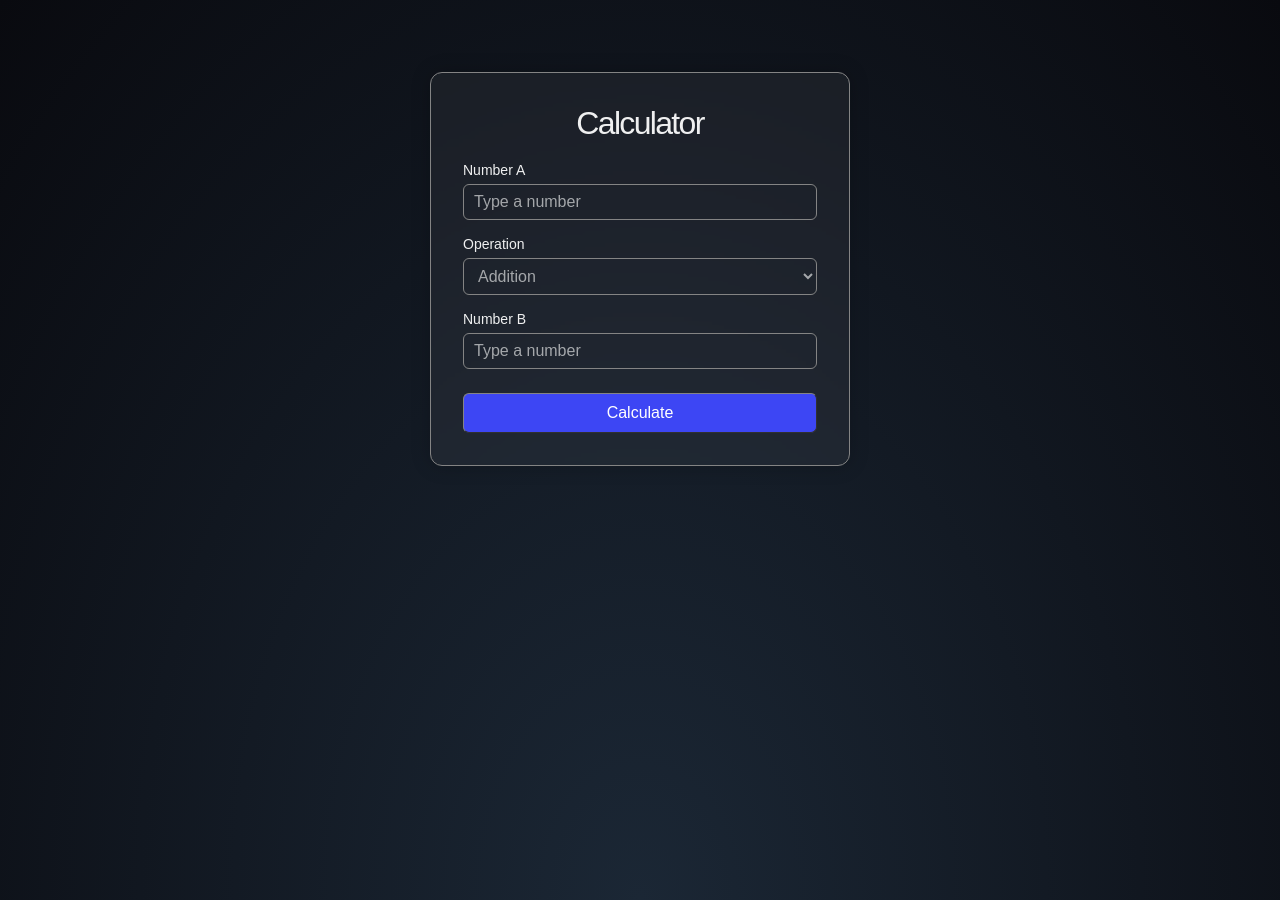
Scenario: Calculator input validation › rejects submission when both fields are empty
The width and height of the screenshot is (1280, 900).
Click the button "Calculate" at [640, 413], box [463,393,817,433]
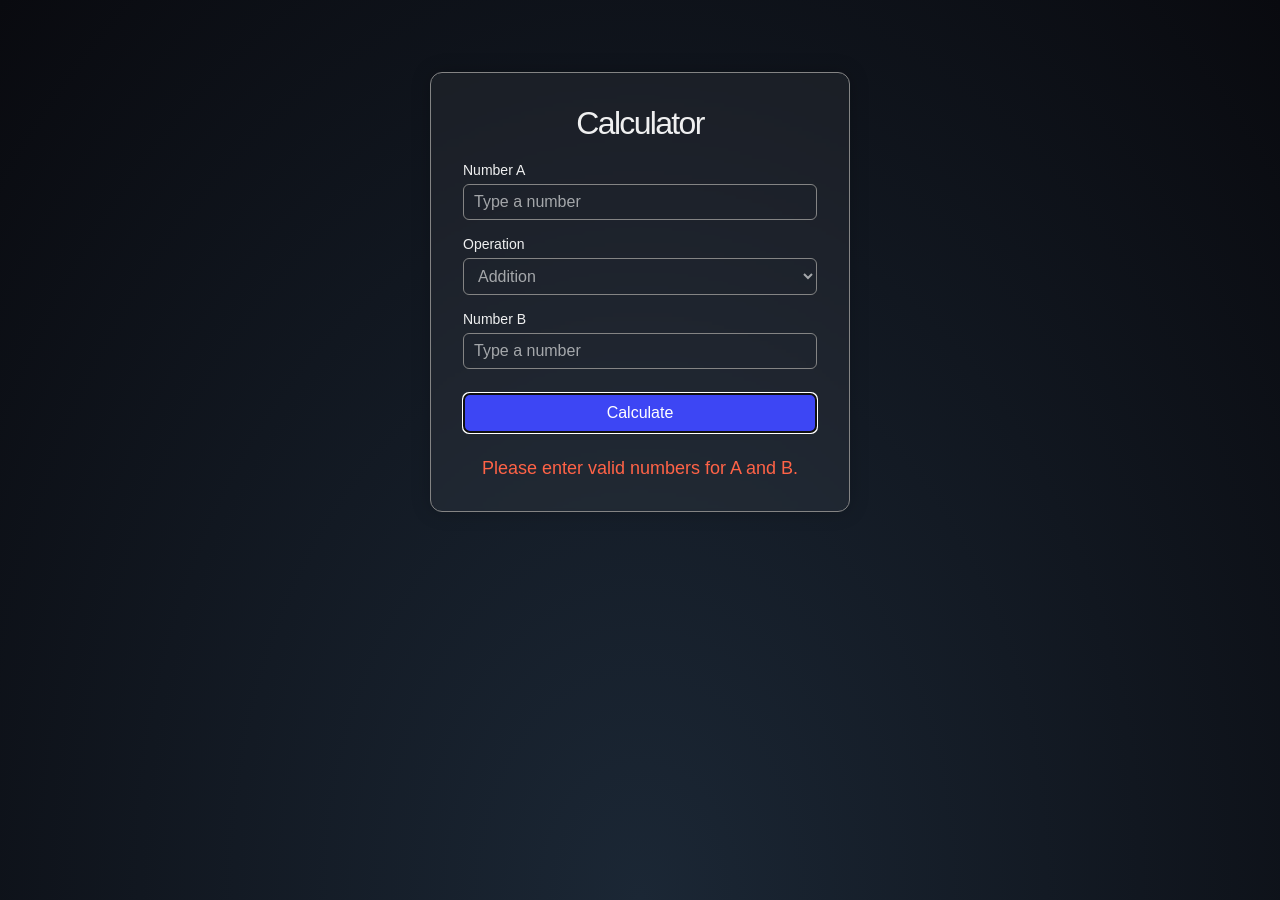
Now the text "Please enter valid numbers for A and B." is shown, box [463,458,817,479]
